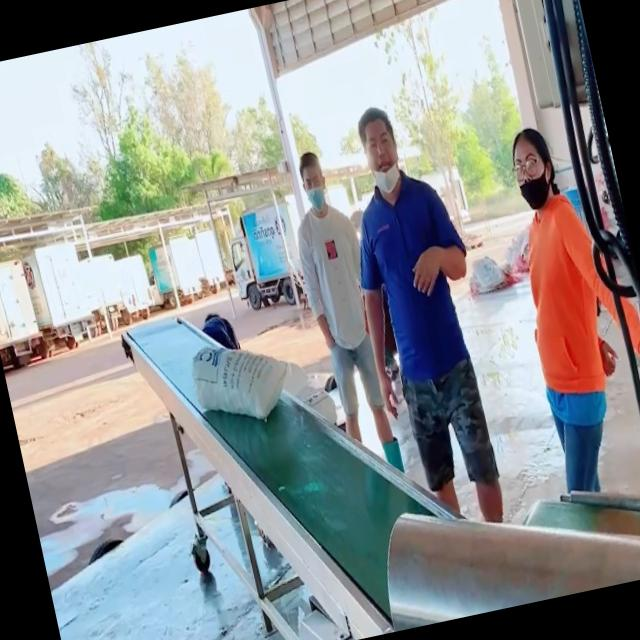ice-bag: (187, 327, 291, 440)
